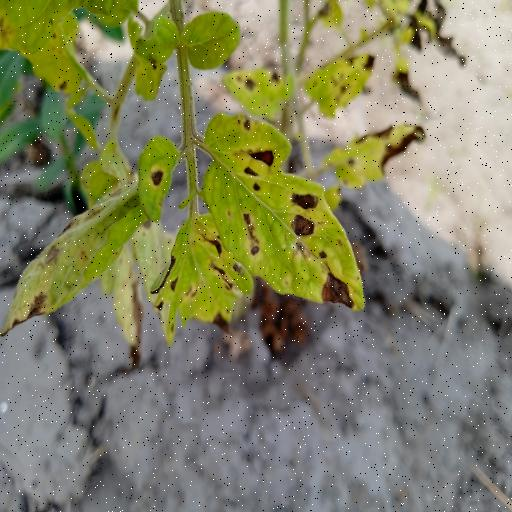Tomato_Brown_Spots: (0, 141, 183, 343), (195, 107, 366, 314), (156, 209, 258, 352)
